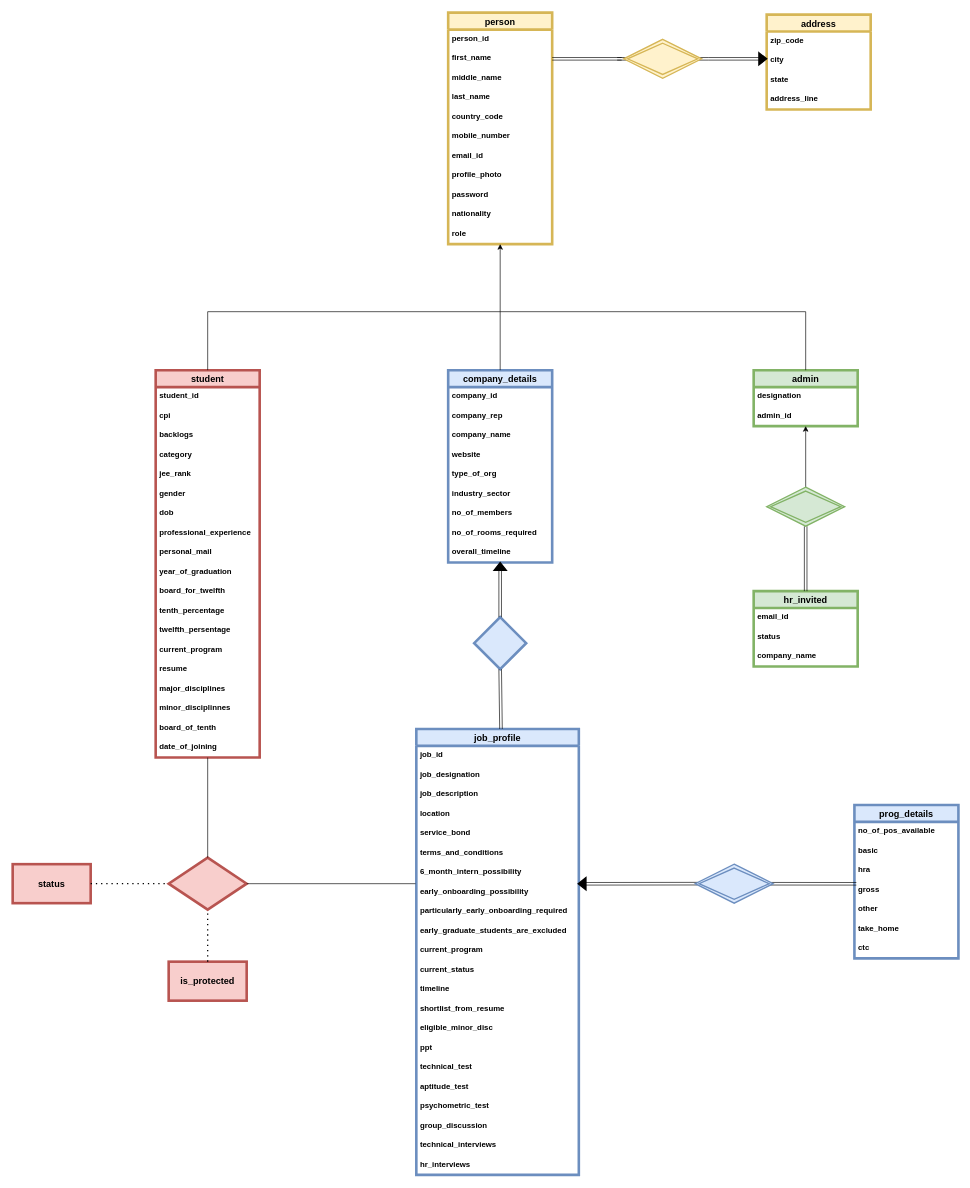
This 970x1188 diagram has some shape labels left out. The centre of each missing label's shape, as x and y in pixels:
"applies_to" belongs at (207,883).
"located_at" belongs at (662,58).
"process" belongs at (500,643).
"Relationship" belongs at (805,506).
"var_program" belongs at (734,883).
